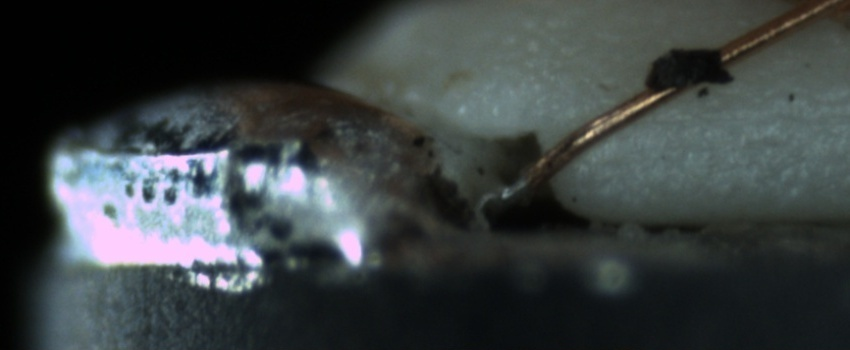CL: (770, 1, 847, 32)
DL: (637, 78, 846, 151)
